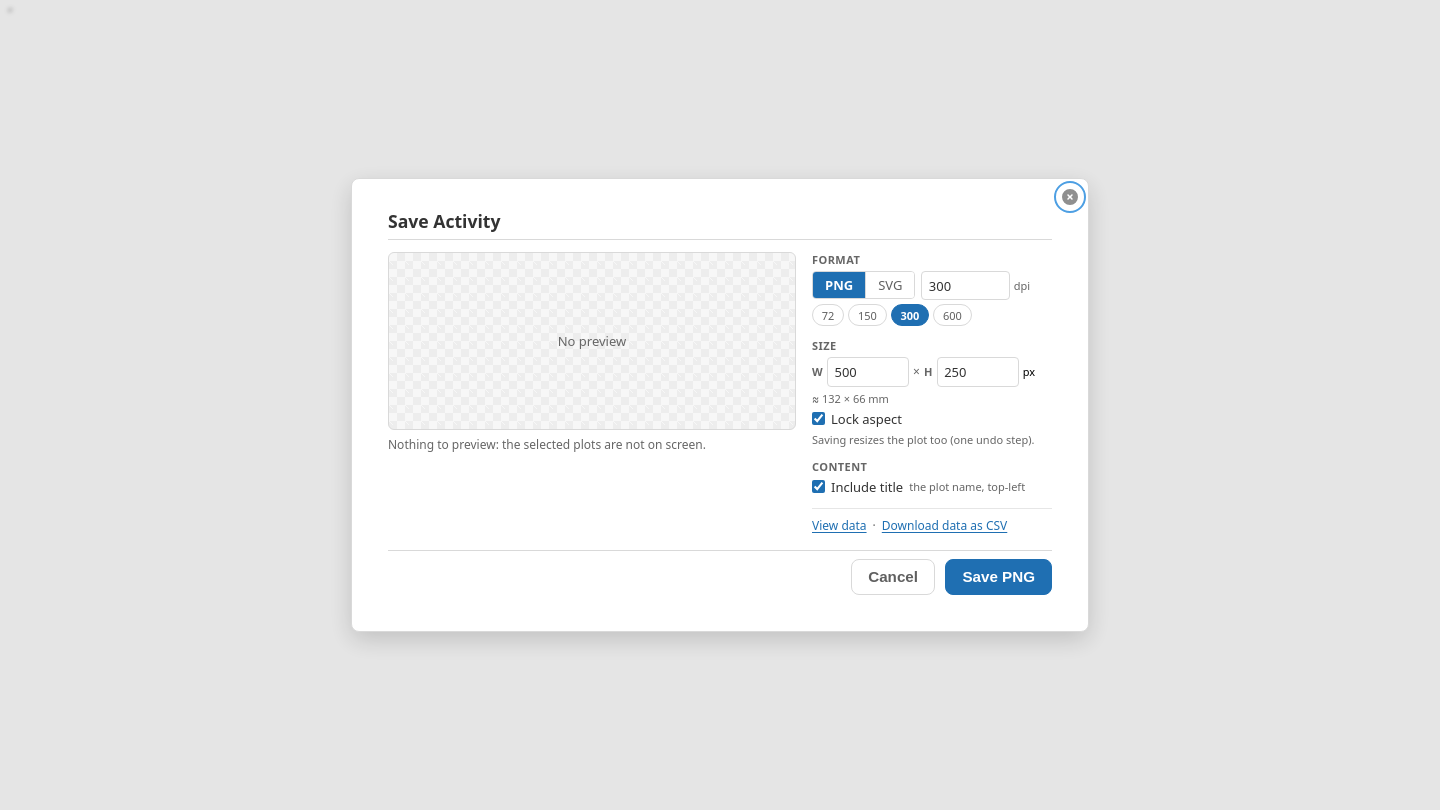
SavePlot dialog: dimensions › offers width and height for a single plot, prefilled, with the physical size and an aspect lock
Expected: the text "≈ 132 × 66 mm" is shown, x1=812 y1=391 x2=889 y2=406
Replace the text in the number field labelled "W" with "1000" at (868, 372), box x1=827 y1=357 x2=909 y2=387
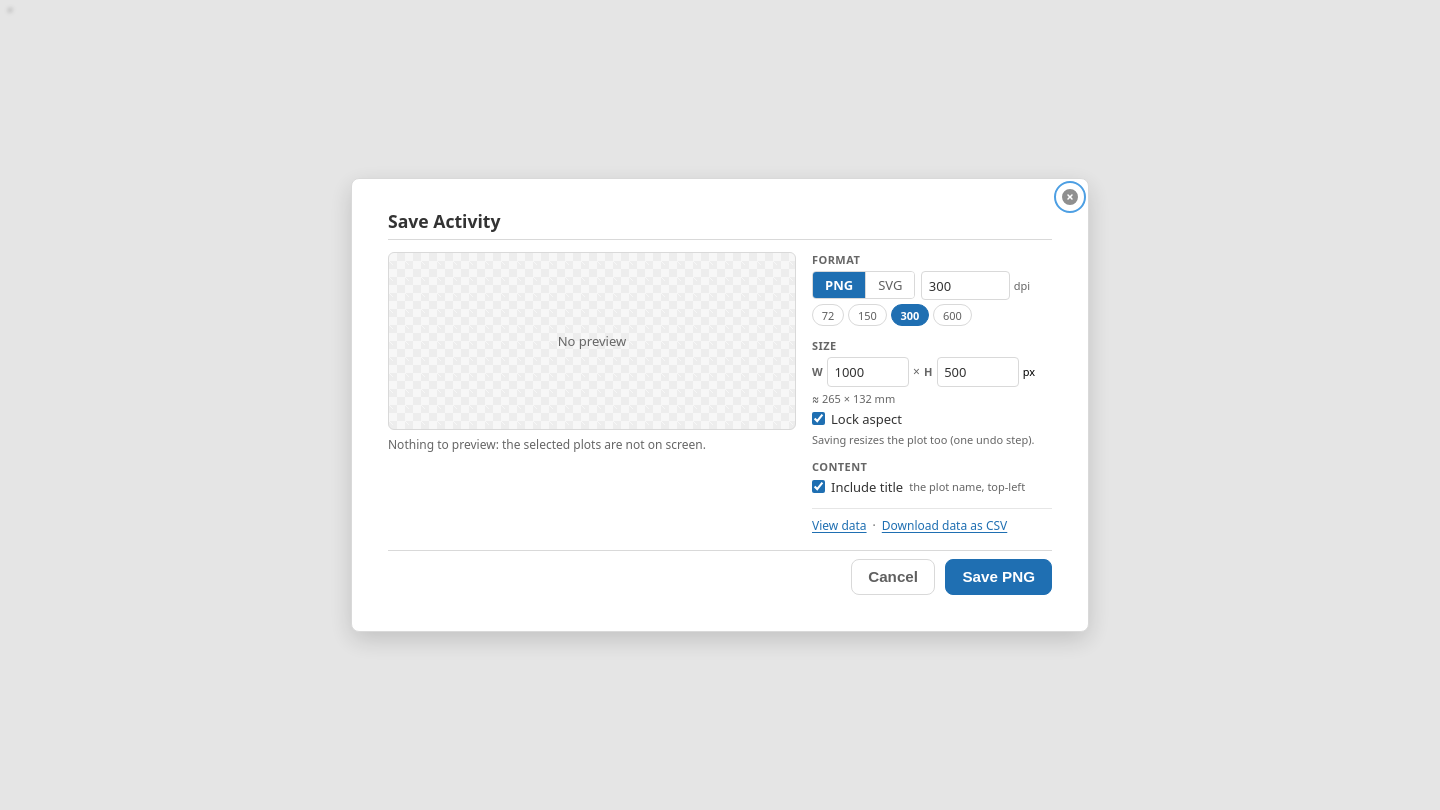
Replace the text in the number field labelled "H" with "300" at (978, 372), box x1=937 y1=357 x2=1019 y2=387
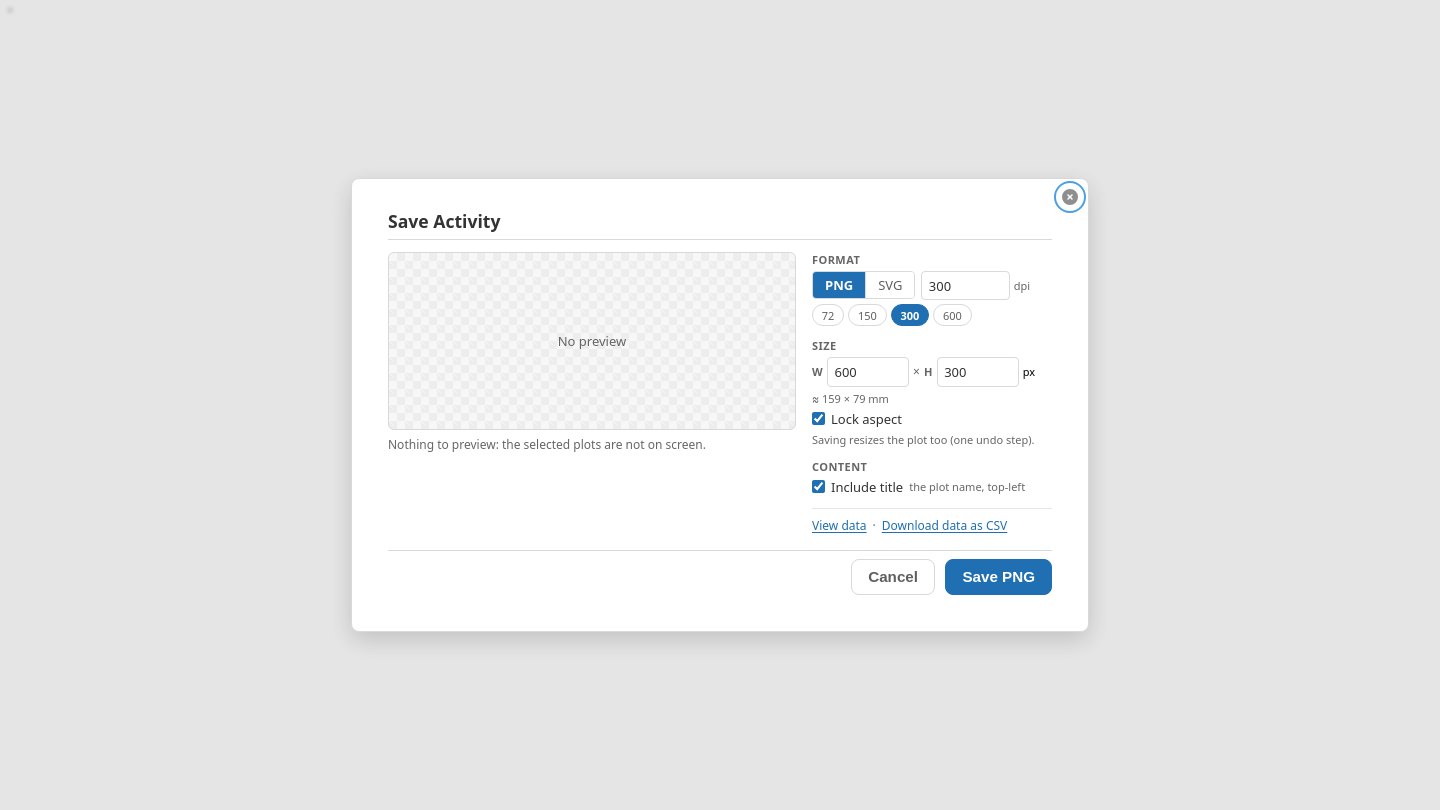
Click the checkbox labelled "Lock aspect" at (818, 419), box x1=812 y1=412 x2=825 y2=425
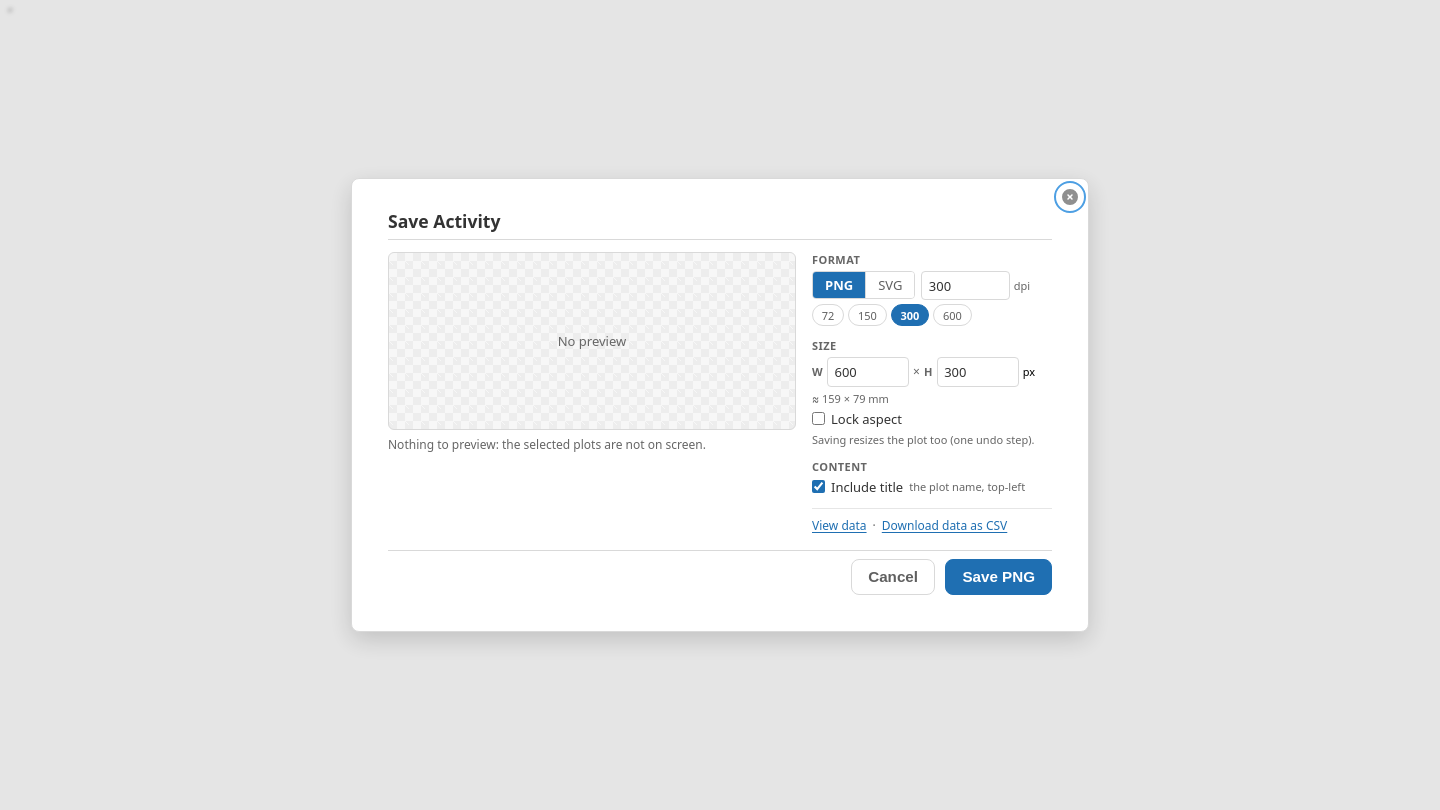
Replace the text in the number field labelled "W" with "800" at (868, 372), box x1=827 y1=357 x2=909 y2=387
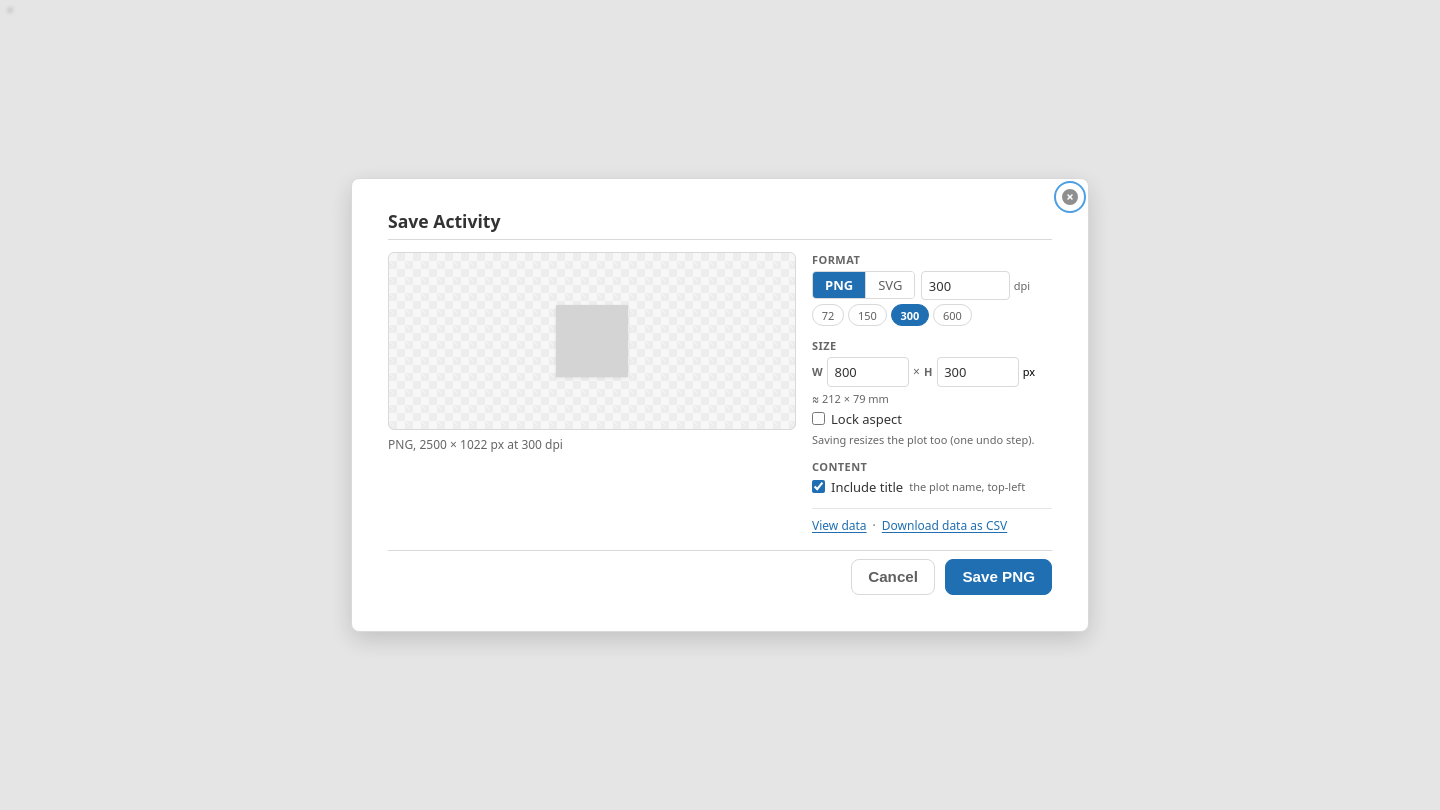
Result: the text "PNG, 2500 × 1022 px at 300 dpi" is shown at x1=388 y1=436 x2=563 y2=453
